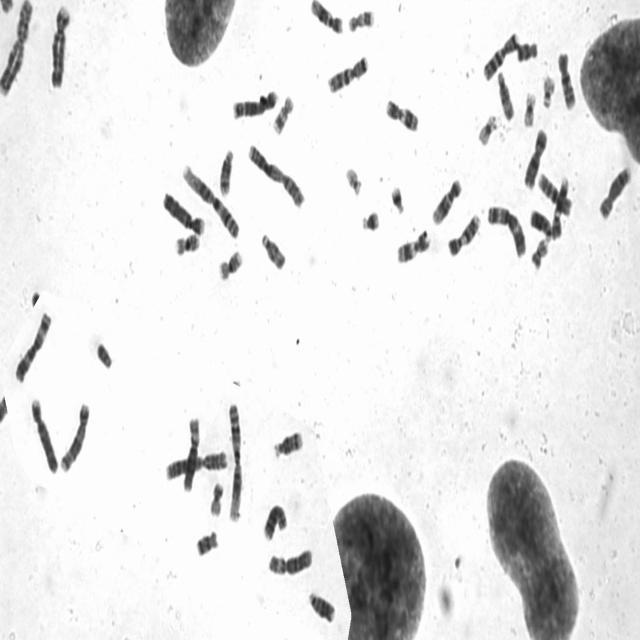A1: (180, 157, 242, 241), (226, 396, 244, 524)
A2: (245, 137, 307, 210), (163, 445, 230, 482)
A3: (12, 306, 53, 384), (486, 200, 528, 259)
B4: (28, 391, 59, 475), (160, 185, 207, 236)
B5: (58, 396, 91, 474), (230, 84, 280, 121)
C10: (536, 166, 573, 218), (555, 46, 578, 112)
C11: (394, 225, 432, 265), (384, 93, 421, 133)
C12: (429, 172, 464, 226), (307, 0, 344, 35)
C6: (181, 411, 202, 493), (266, 542, 314, 577)
C7: (480, 26, 520, 82), (326, 49, 370, 94)
C8: (597, 160, 633, 221), (262, 498, 290, 542)
C9: (445, 208, 482, 258), (550, 171, 570, 240)
D13: (306, 586, 337, 624), (527, 204, 553, 241)
D14: (272, 425, 304, 460), (217, 142, 235, 198)
D15: (259, 227, 287, 271), (495, 66, 516, 121)
E16: (216, 244, 244, 282), (173, 228, 201, 257)
E17: (271, 90, 295, 136), (346, 4, 376, 34)
E18: (193, 524, 220, 558), (514, 35, 539, 64)
F19: (475, 108, 498, 148), (520, 86, 538, 129)
F20: (529, 232, 550, 270), (207, 476, 225, 518)
G21: (388, 179, 406, 215), (359, 204, 381, 232)
G22: (539, 68, 557, 110), (343, 161, 363, 197)
X: (522, 122, 549, 191)
Y: (94, 336, 114, 371)
